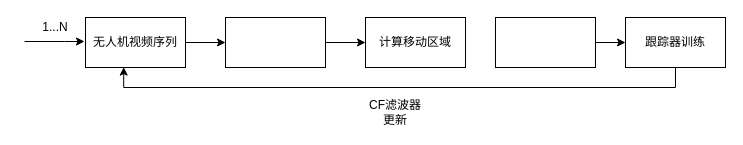
Some shapes in this 743 by 145 pixel diagram are drawn without their labels. Here are the shapes that lost their labels. From the top down, the centre of each, then its label:
the point at 275,42: VIBE背景建模
the point at 545,42: HOG特征提取
